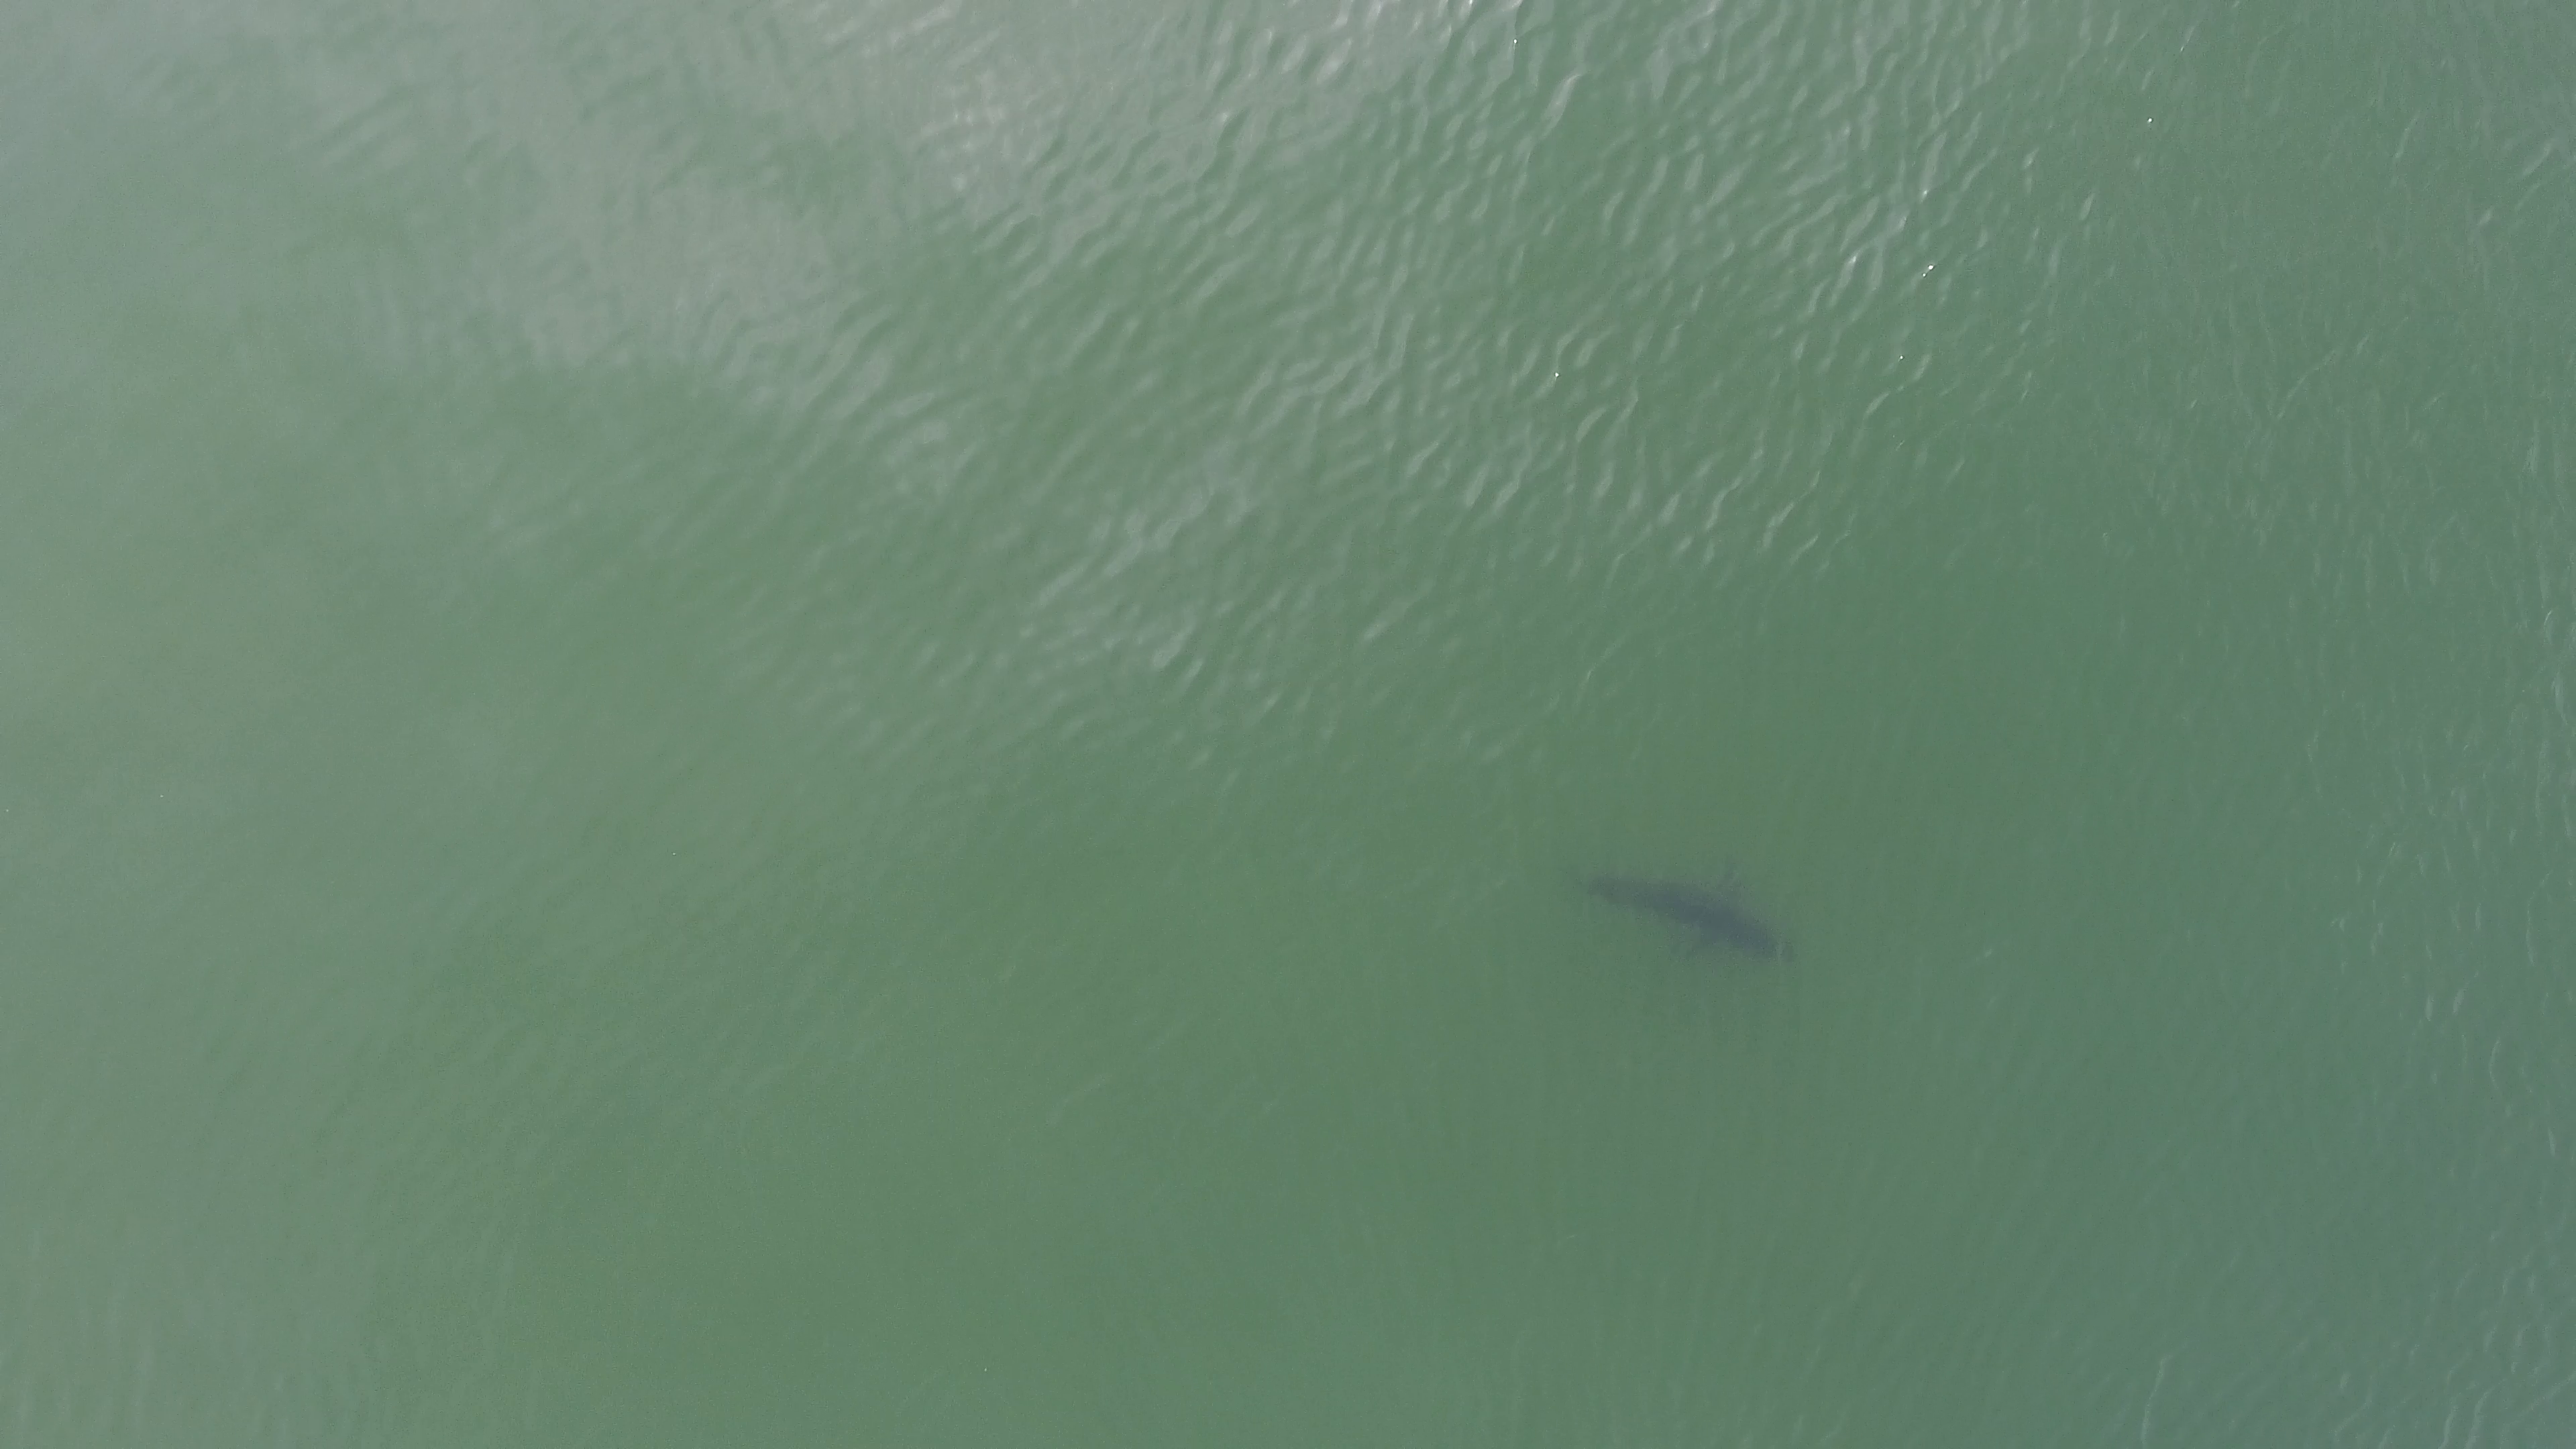shark: (1557, 844, 1826, 978)
